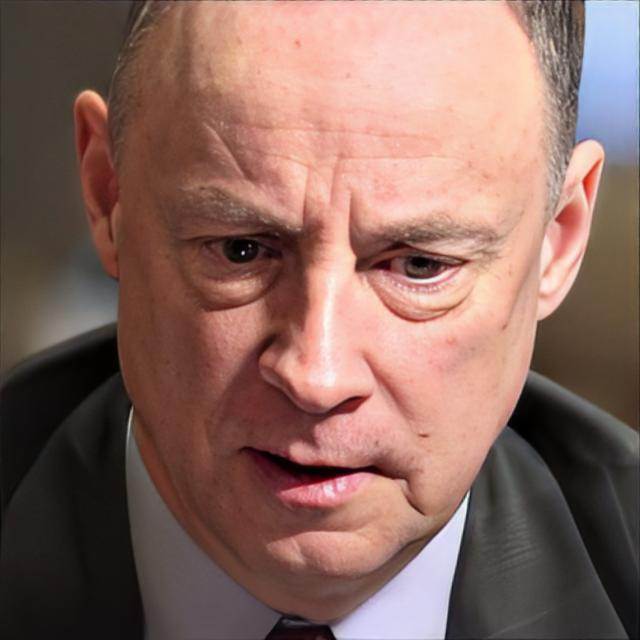anger: (123, 34, 537, 588)
